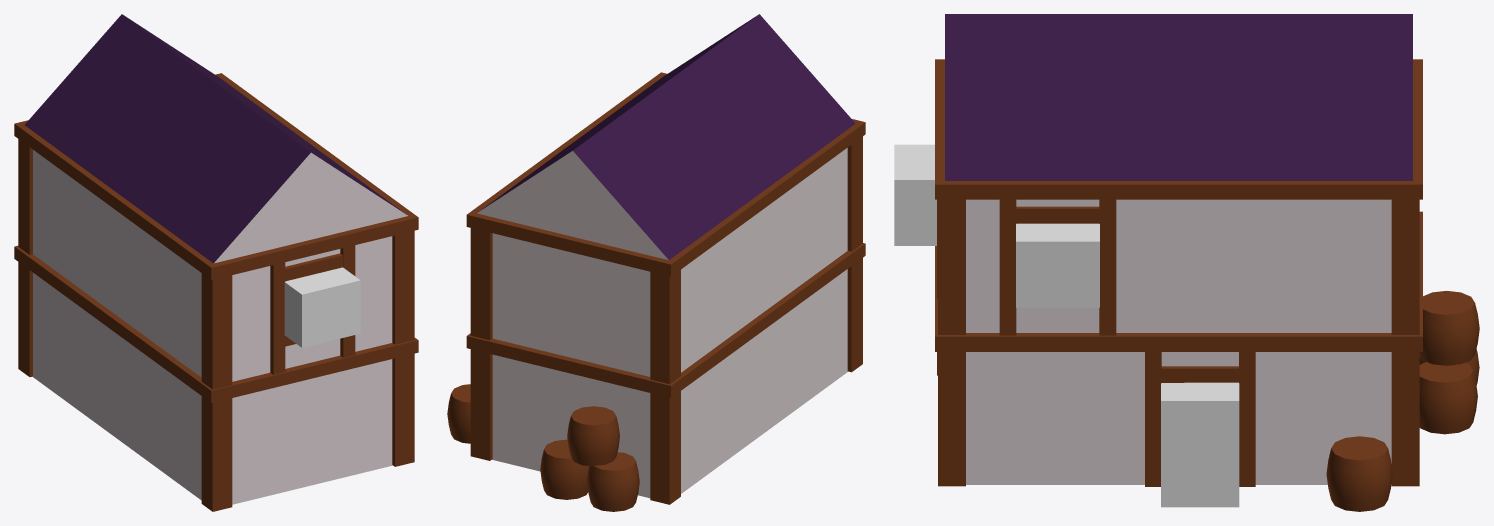
The model's file is house_aa.glb.
3 renders of one model, left to right at view 1: azimuth 30°, elevation 25°; view 2: azimuth 150°, elevation 25°; view 3: azimuth 270°, elevation 25°, orthographic. The views are drawn at different scales.
Parts seen in each view (by area): view 1: house_col.004, Plane.001, floor_02-col, window_hole-noimp.001, Cube.009, Cube.005, Cube.007, Cube.003, Cube.016, Cube.008, Cube.004, Cube.018 (+1 smaller); view 2: house_col.004, Barrel-col (×4), Plane.001, floor_02-col, Cube.008, Cube.004, Cube.006, Cube.002, Cube.009, Cube.005; view 3: house_col.004, Barrel-col (×3), Plane.001, door_hole-noimp, floor_02-col, window_hole-noimp, window_hole-noimp.001, Cube.006, Cube.002, Cube.007, Cube.003, Cube.012 (+5 smaller).
Part boxes in pixels (x1,y1,x2,y2): house_col.004: (25,14,407,504); Plane.001: (14,73,418,279); floor_02-col: (14,245,418,402); window_hole-noimp.001: (284,267,360,347); Cube.009: (201,273,232,389); Cube.005: (201,396,232,511); Cube.007: (392,230,414,344); Cube.003: (392,353,414,466); Cube.016: (270,262,285,374); Cube.008: (18,139,32,254); Cube.004: (18,262,32,376); Cube.018: (285,253,342,281); house_col.004: (477,14,855,498); Barrel-col (×4): (447,384,639,511); Plane.001: (466,72,865,276); floor_02-col: (466,243,865,397); Cube.008: (650,270,680,384); Cube.004: (650,391,680,504); Cube.006: (470,228,492,340); Cube.002: (470,349,492,460); Cube.009: (847,136,862,251); Cube.005: (847,258,862,372); house_col.004: (945,14,1412,484); Barrel-col (×3): (1326,290,1479,511); Plane.001: (935,59,1422,199); door_hole-noimp: (1161,382,1239,507); floor_02-col: (935,211,1422,351); window_hole-noimp: (1016,223,1099,307); window_hole-noimp.001: (894,144,936,245); Cube.006: (1391,199,1419,334); Cube.002: (1391,352,1419,486); Cube.007: (938,199,965,334); Cube.003: (938,352,965,486); Cube.012: (1099,199,1116,335).
Size of what is drawn, in the model's own units: 6.35 by 8.17 by 10.47.
